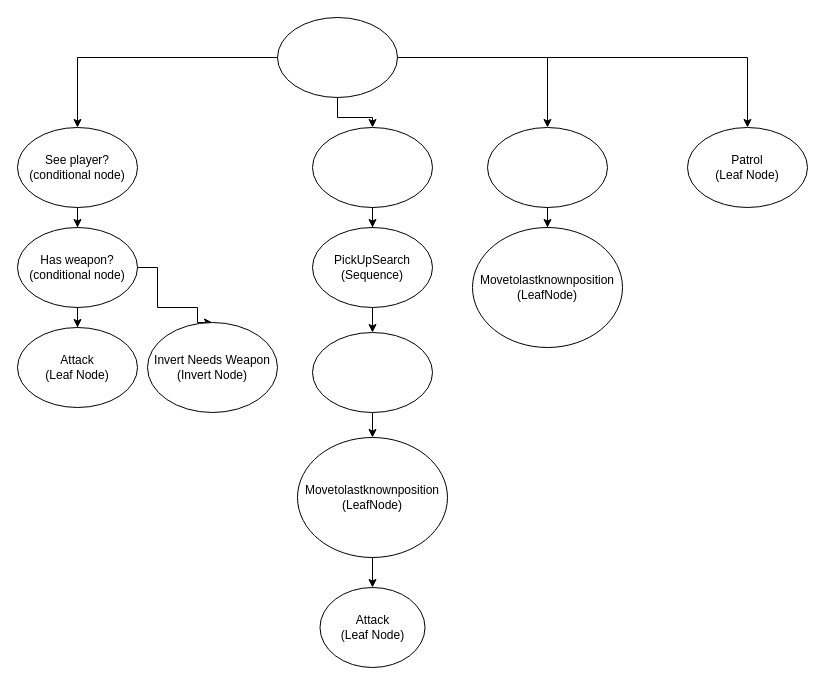
The diagram is 825 pixels wide and 685 high, and some of its shapes have lost their labels. Here are the shapes that lost their labels. From the top down, the box of each, then its label:
(276, 16, 398, 98): Root (selector)
(312, 126, 432, 208): Need Weapon? (conditional node)
(486, 126, 608, 208): have Last known player position? (conditional node)
(312, 332, 432, 412): PickUp (LeafNode)
